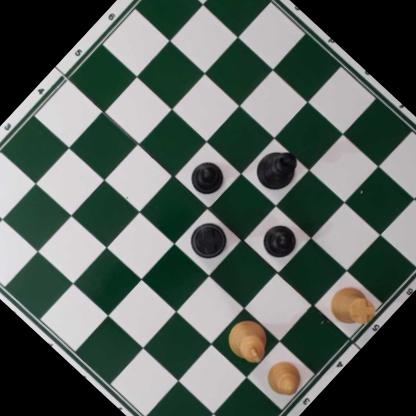black-king: (248, 140, 305, 198)
black-pawn: (183, 154, 231, 202), (257, 217, 304, 264)
black-rook: (184, 216, 233, 266)
white-king: (219, 312, 278, 370)
white-pawn: (261, 354, 309, 402)
white-rook: (324, 278, 381, 335)
